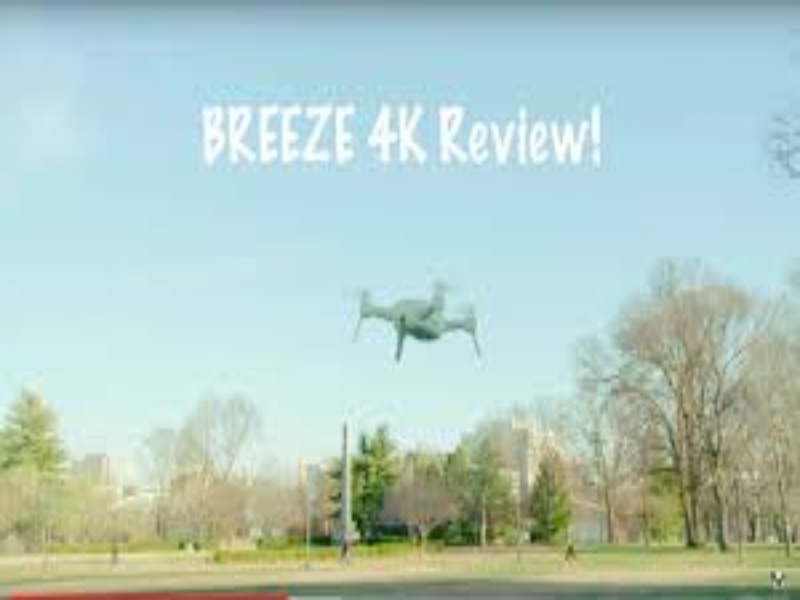drone: (332, 266, 497, 367)
